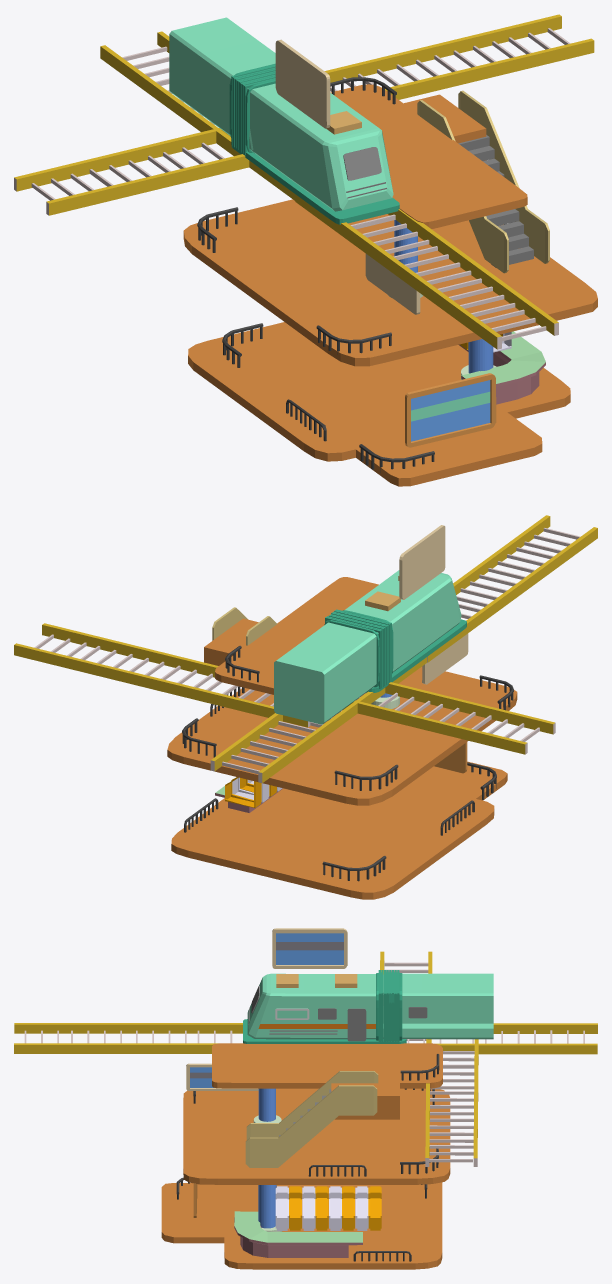
Rendered from station.fbx.
3 renders of one model, top to bottom at view 1: azimuth 30°, elevation 25°; view 2: azimuth 150°, elevation 25°; view 3: azimuth 270°, elevation 25°, orthographic. The views are drawn at different scales.
Visible parts, largest first — view 1: 立方体.075; view 2: 立方体.075; view 3: 立方体.075.
Boxes of the visible parts, bbox=[...] form: 立方体.075: bbox=[14, 14, 597, 486]; 立方体.075: bbox=[14, 515, 597, 899]; 立方体.075: bbox=[14, 928, 597, 1269].
Bounding box in the file's own units: 508 × 301 × 607.
